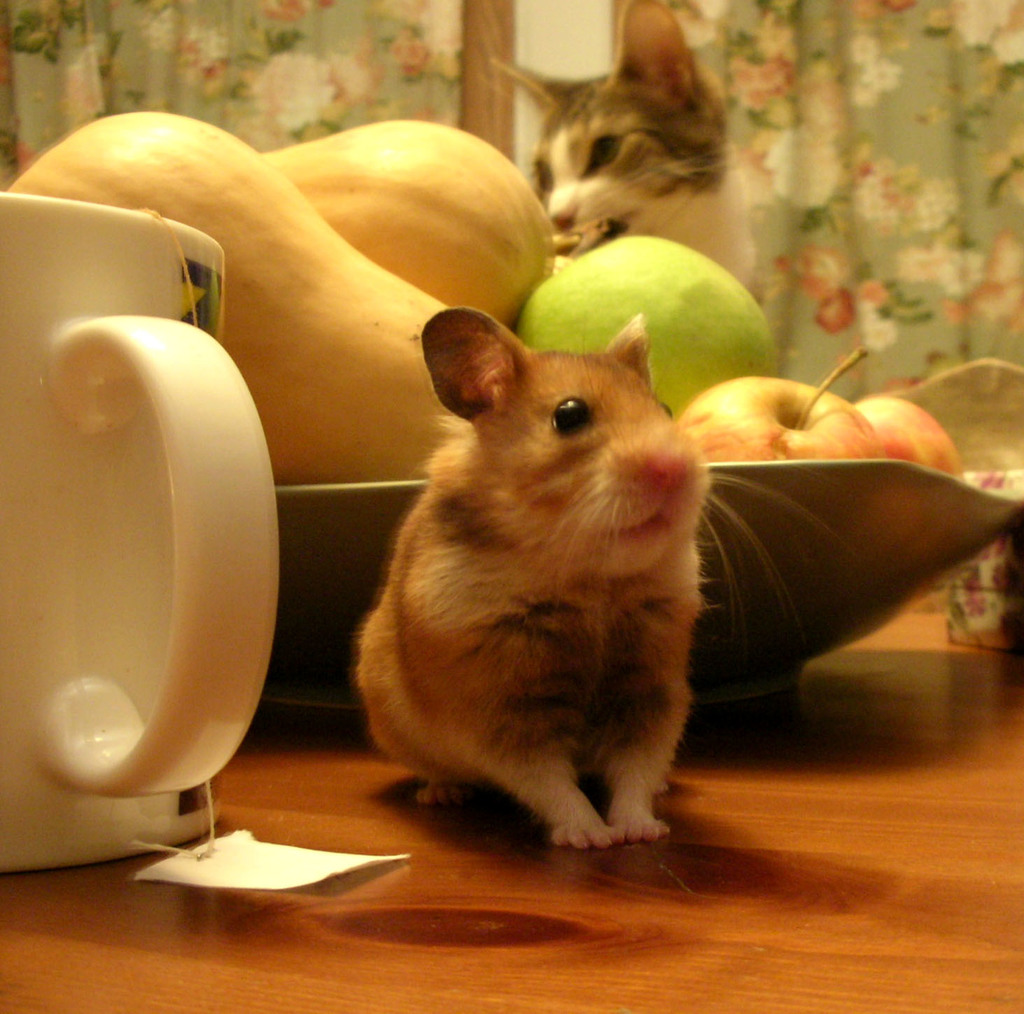Apple: (516, 230, 779, 410), (674, 345, 884, 460), (854, 395, 968, 480)
